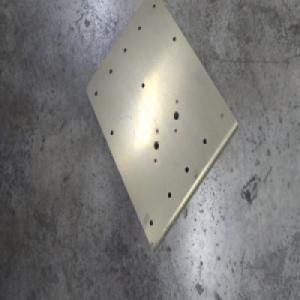MetalSheet: (83, 0, 240, 255)
